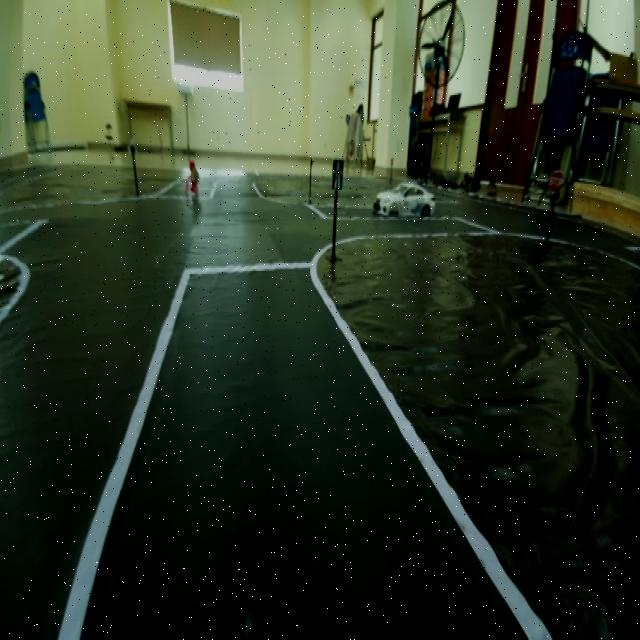highway_exit: (328, 154, 346, 192)
